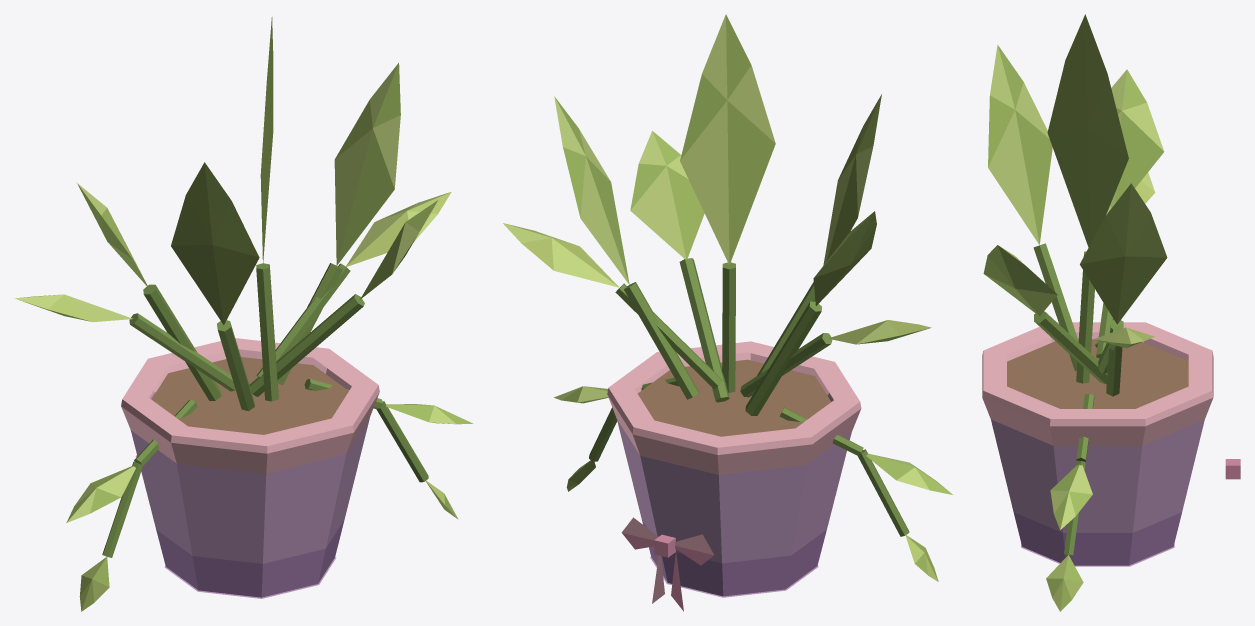
File: 02_Planta_Ventana.obj
3 renders of one model, left to right at view 1: azimuth 30°, elevation 25°; view 2: azimuth 150°, elevation 25°; view 3: azimuth 270°, elevation 25°, orthographic. The views are drawn at different scales.
Visible parts, largest first — view 1: Maceta_Ventana, Tallos, Maceta_Ventana_Tierra, HojaGr4, HojaGr3, Hojas_Colgantes, Hojas_Bajas, Tallos_Colgantes, HojaGr2, HojaGr5, HojaGr1; view 2: Maceta_Ventana, HojaGr2, Tallos, Maceta_Ventana_Tierra, HojaGr5, HojaGr3, Hojas_Bajas, HojaGr4, Hojas_Colgantes, MoñoMaceta, Tallos_Colgantes, HojaGr1; view 3: Maceta_Ventana, HojaGr2, Maceta_Ventana_Tierra, HojaGr4, HojaGr3, Tallos, HojaGr1, Hojas_Colgantes, HojaGr5, Hojas_Bajas, Tallos_Colgantes.
Boxes of the visible parts, box(x1,y1,x2,y2) form: Maceta_Ventana: box(121, 338, 379, 597); Tallos: box(129, 263, 364, 411); Maceta_Ventana_Tierra: box(151, 357, 348, 434); HojaGr4: box(171, 162, 259, 324); HojaGr3: box(334, 63, 400, 265); Hojas_Colgantes: box(66, 404, 473, 611); Hojas_Bajas: box(14, 192, 451, 322); Tallos_Colgantes: box(102, 379, 428, 557); HojaGr2: box(260, 17, 273, 263); HojaGr5: box(360, 200, 437, 299); HojaGr1: box(77, 183, 148, 288); Maceta_Ventana: box(607, 341, 861, 596); HojaGr2: box(680, 14, 775, 265); Tallos: box(615, 258, 832, 415); Maceta_Ventana_Tierra: box(637, 359, 831, 436); HojaGr5: box(630, 131, 704, 258); HojaGr3: box(554, 96, 629, 284); Hojas_Bajas: box(503, 223, 931, 344); HojaGr4: box(823, 94, 881, 265); Hojas_Colgantes: box(554, 386, 952, 581); MoñoMaceta: box(621, 517, 714, 611); Tallos_Colgantes: box(589, 377, 909, 536); HojaGr1: box(813, 211, 876, 305); Maceta_Ventana: box(982, 322, 1213, 565); HojaGr2: box(1047, 14, 1128, 247); Maceta_Ventana_Tierra: box(1007, 339, 1188, 408); HojaGr4: box(988, 44, 1052, 244); HojaGr3: box(1080, 183, 1167, 324); Tallos: box(1033, 243, 1123, 396); HojaGr1: box(1110, 69, 1164, 207); Hojas_Colgantes: box(1046, 464, 1092, 611); HojaGr5: box(983, 245, 1057, 316); Hojas_Bajas: box(1094, 172, 1155, 347); Tallos_Colgantes: box(1064, 342, 1097, 555).
Bounding box in the file's own units: 0.58 × 0.696 × 0.3094.
